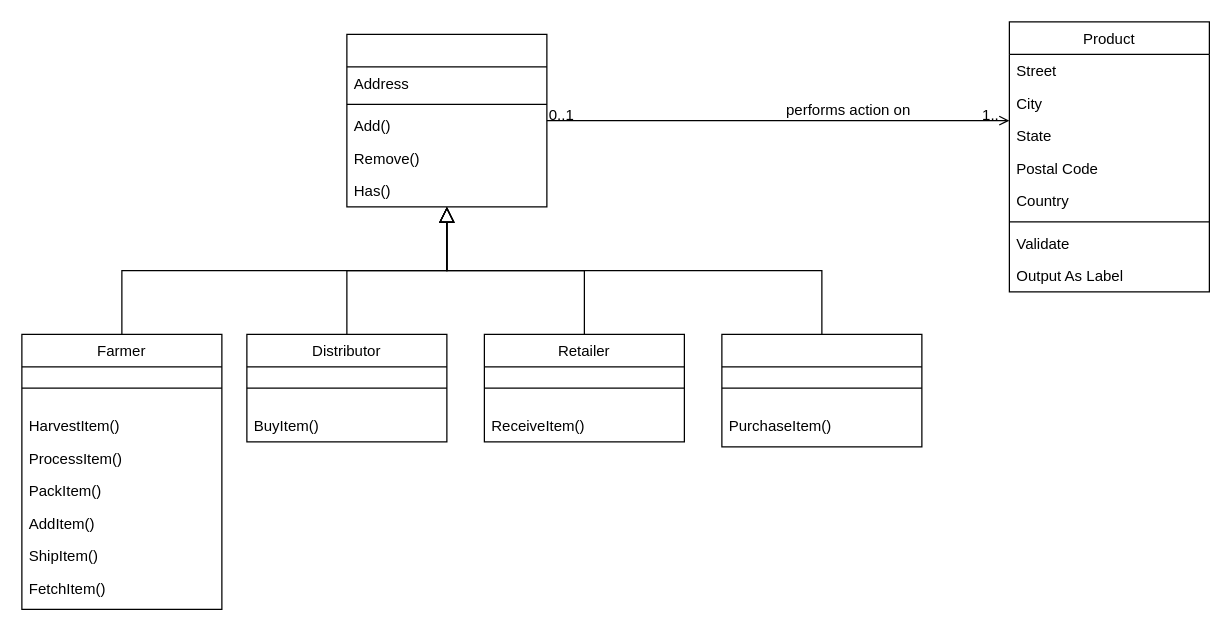
The diagram is 1231 pixels wide and 631 high, and some of its shapes have lost their labels. Each missing label, with the box of its shape:
Consumer: (721, 333, 922, 447)
Role: (346, 33, 547, 207)
